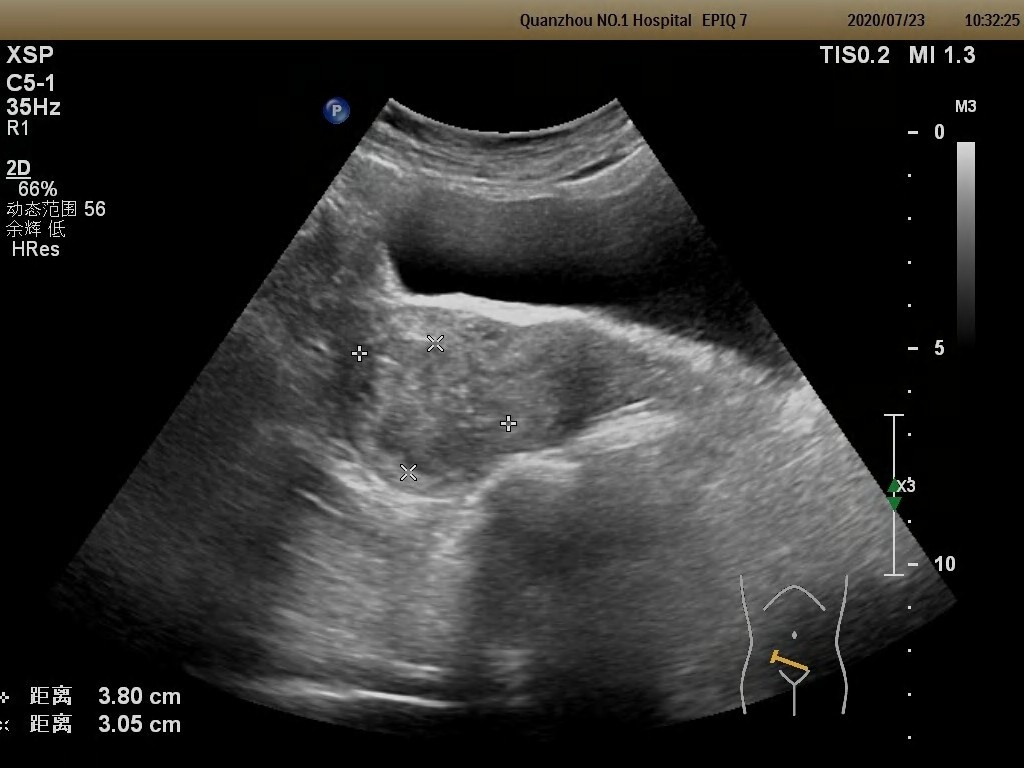肌瘤: (356, 336, 512, 486)
